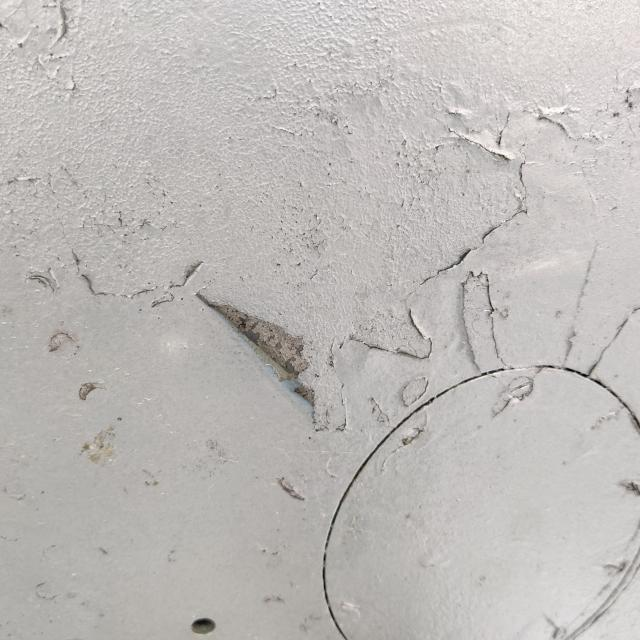paint-off: (175, 264, 360, 443)
